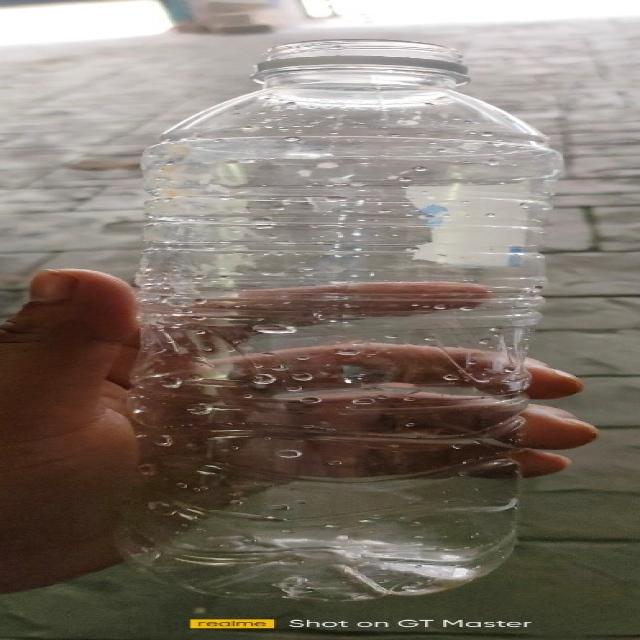plastic_bottle: (122, 38, 562, 600)
